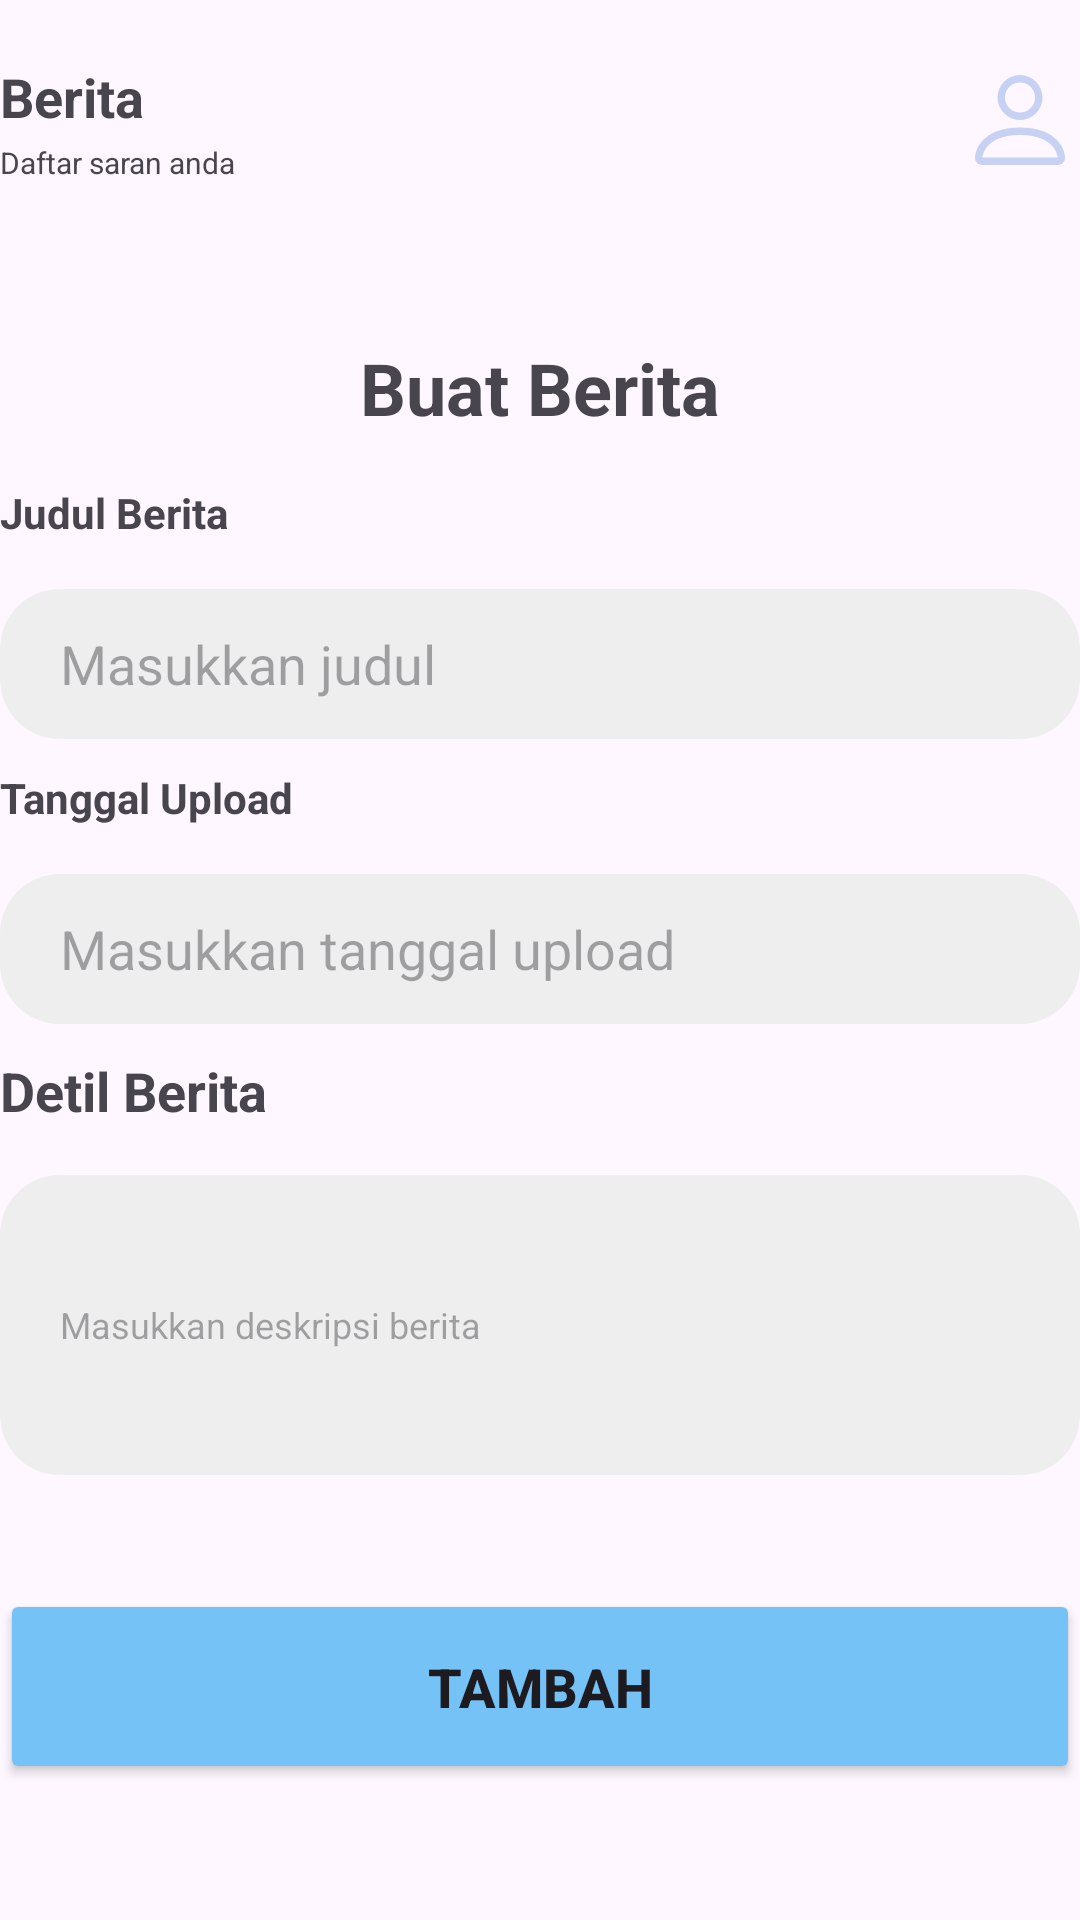

Screen size 1080x1920. Icon name, then its center in pixels as [x,y]:
person: [1020,120]
